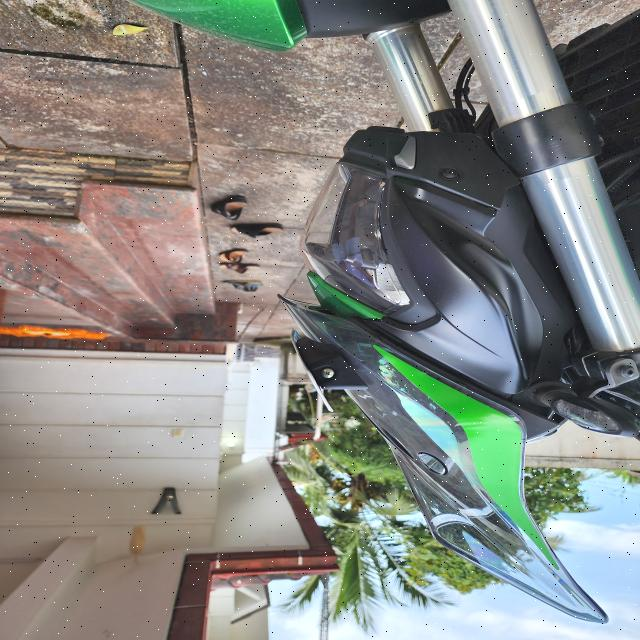headlight: (299, 160, 410, 314)
